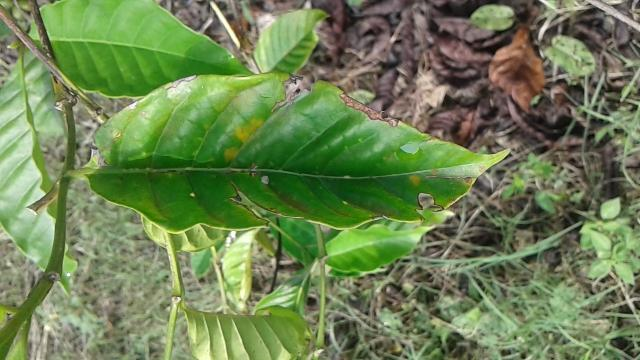rust_level_1: (83, 66, 520, 240)
